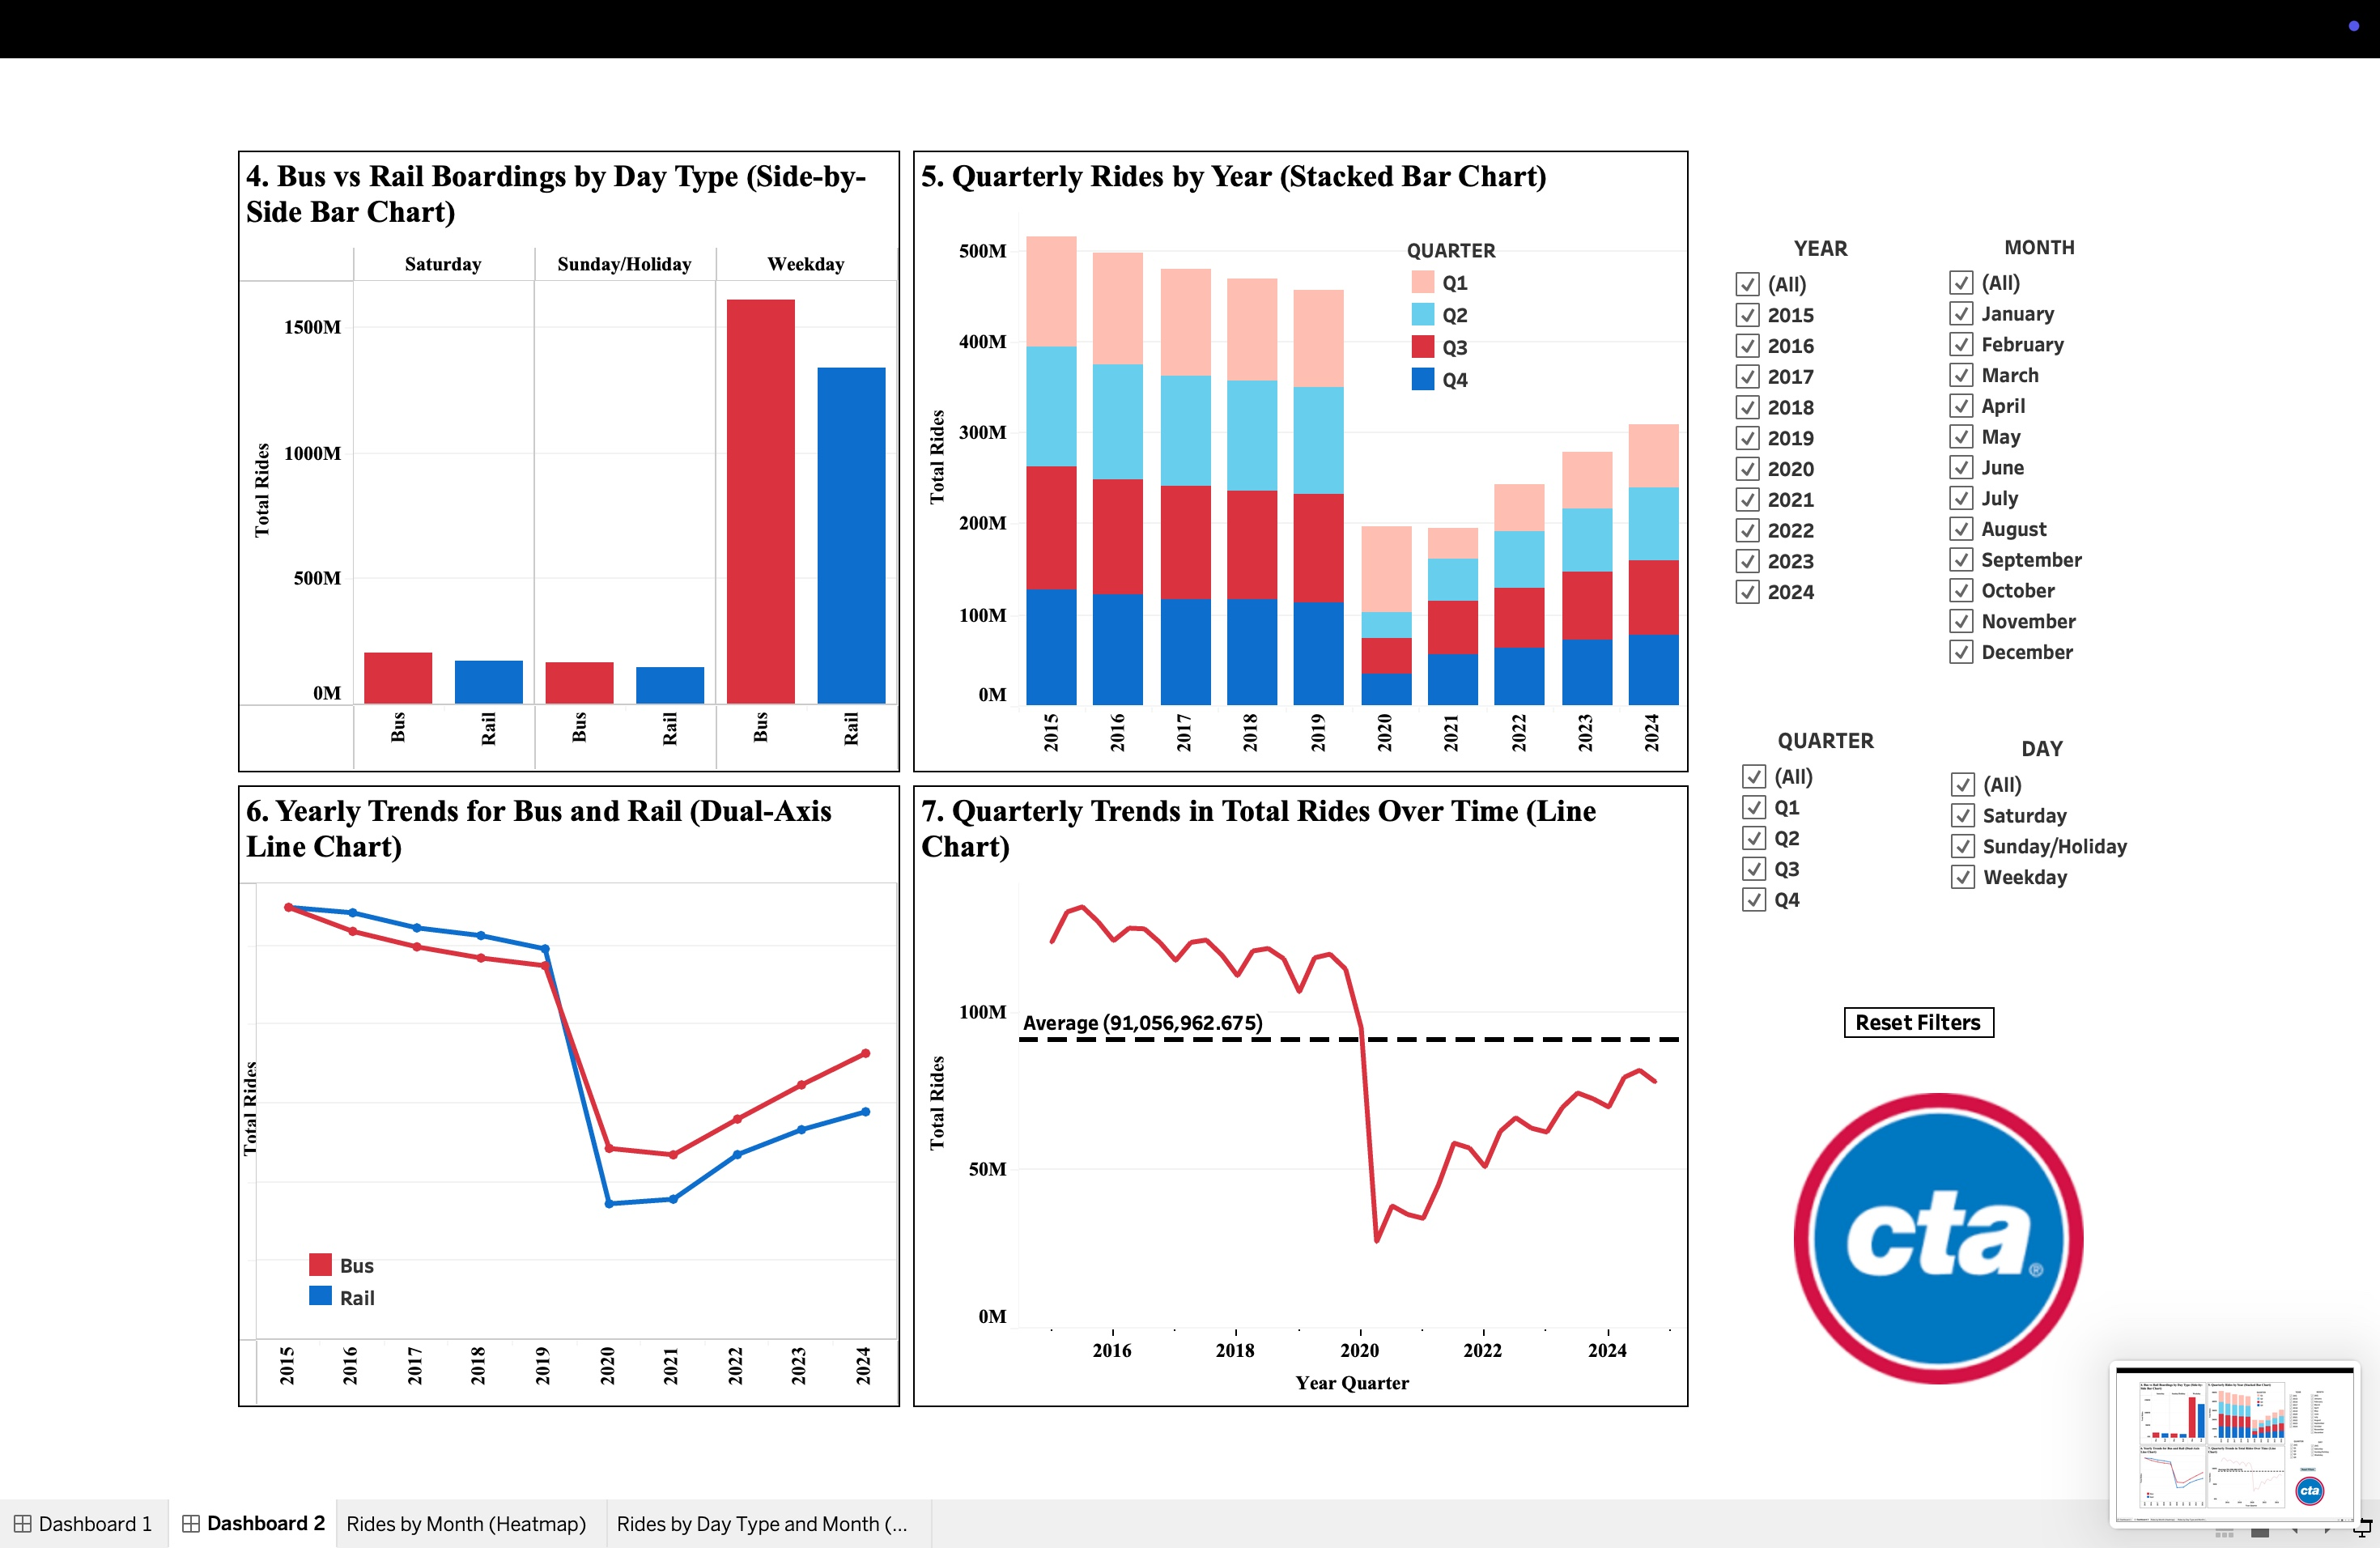

Layout of this report page (visuals, bound fields, positions):
{"tool":"tableau","page":{"name":"Dashboard 2","canvas":[1200,800],"ordinal":1},"visuals":[{"type":"worksheet","title":"4. Bus vs Rail Boardings Comparison by Day Type (Side-by-Side Bar Chart)","mark":"Automatic","cols":["Calculation_525373099687178240"],"box":[8,8,417,392]},{"type":"worksheet","title":"5. Quarterly Rides by Year (Stacked Bar Chart)","mark":"Bar","rows":["total_rides"],"cols":["service_date"],"box":[425,8,487,392]},{"type":"filter","title":"5. Quarterly Rides by Year (Stacked Bar Chart)","param":"[federated.050vve11wucfu81aeamjf0phw5mi].[yr:service_date:ok]","box":[931,63,118,232]},{"type":"filter","title":"7. Quarterly Trends in Total Rides Over Time (Line Chart)","param":"[federated.050vve11wucfu81aeamjf0phw5mi].[mn:service_date:ok]","box":[1063,63,124,279]},{"type":"legend","title":"5. Quarterly Rides by Year (Stacked Bar Chart)","param":"[federated.050vve11wucfu81aeamjf0phw5mi].[qr:service_date:ok]","box":[734,65,154,96]},{"type":"filter","title":"5. Quarterly Rides by Year (Stacked Bar Chart)","param":"[federated.050vve11wucfu81aeamjf0phw5mi].[qr:service_date:ok]","box":[935,367,116,123]},{"type":"filter","title":"4. Bus vs Rail Boardings Comparison by Day Type (Side-by-Side Bar Chart)","param":"[federated.050vve11wucfu81aeamjf0phw5mi].[none:Calculation_525373099687178240:nk","box":[1064,372,125,109]},{"type":"worksheet","title":"6. Yearly Trends for Bus and Rail (Dual-Axis Line Chart)","mark":"Automatic","rows":["bus_boardings","rail_boardings"],"cols":["service_date"],"box":[8,400,417,392]},{"type":"worksheet","title":"7. Quarterly Trends in Total Rides Over Time (Line Chart)","mark":"Automatic","rows":["total_rides"],"cols":["service_date"],"box":[425,400,487,392]},{"type":"worksheet","title":"Reset Filters","mark":"Automatic","box":[1004,541,93,19]},{"type":"image","param":"Image/cta.png","box":[973,594,211,180]},{"type":"legend","title":"6. Yearly Trends for Bus and Rail (Dual-Axis Line Chart)","param":"[federated.050vve11wucfu81aeamjf0phw5mi].[:Measure Names]","box":[52.8,672,168,52.8]}]}

Visuals, with their boxes on the page's 1200x800 design canvas (x1, y1, x2, y2). These are canvas units, not pixel positions in the 2380x1548 screenshot, which may show the page scaled, cropped or inside an application window:
"4. Bus vs Rail Boardings Comparison by Day Type (Side-by-Side Bar Chart)" worksheet: <box>8,8,425,400</box>
"5. Quarterly Rides by Year (Stacked Bar Chart)" worksheet (Bar marks): <box>425,8,912,400</box>
"5. Quarterly Rides by Year (Stacked Bar Chart)" filter: <box>931,63,1049,295</box>
"7. Quarterly Trends in Total Rides Over Time (Line Chart)" filter: <box>1063,63,1187,342</box>
"5. Quarterly Rides by Year (Stacked Bar Chart)" legend: <box>734,65,888,161</box>
"5. Quarterly Rides by Year (Stacked Bar Chart)" filter: <box>935,367,1051,490</box>
"4. Bus vs Rail Boardings Comparison by Day Type (Side-by-Side Bar Chart)" filter: <box>1064,372,1189,481</box>
"6. Yearly Trends for Bus and Rail (Dual-Axis Line Chart)" worksheet: <box>8,400,425,792</box>
"7. Quarterly Trends in Total Rides Over Time (Line Chart)" worksheet: <box>425,400,912,792</box>
"Reset Filters" worksheet: <box>1004,541,1097,560</box>
image: <box>973,594,1184,774</box>
"6. Yearly Trends for Bus and Rail (Dual-Axis Line Chart)" legend: <box>53,672,221,725</box>
